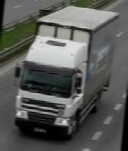truck: (6, 1, 122, 145)
